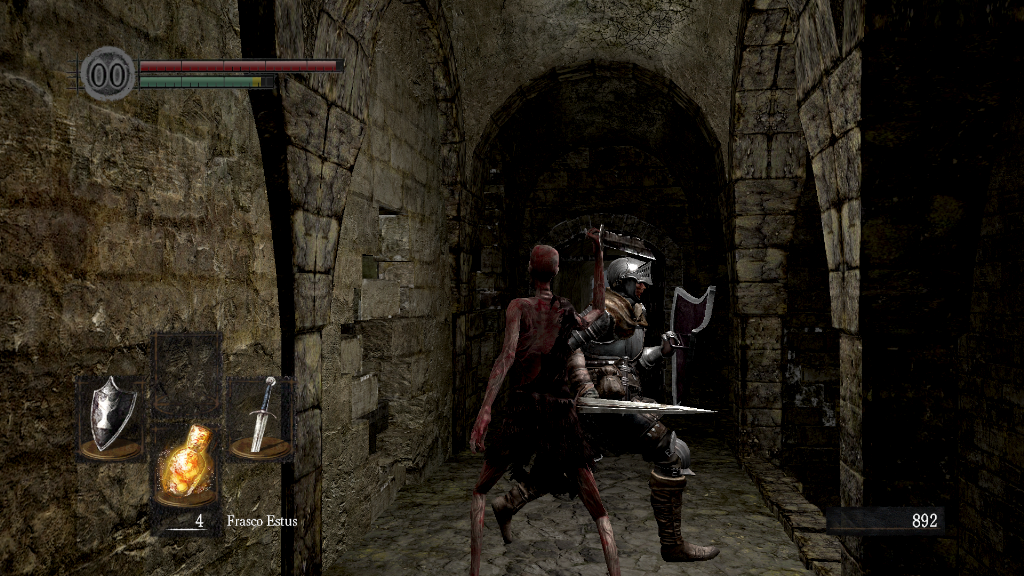health: (138, 58, 343, 71)
hollow: (464, 238, 610, 576)
humanity: (80, 45, 136, 102)
player: (493, 252, 721, 561)
souls: (825, 506, 945, 536)
stamina: (138, 74, 274, 88)
